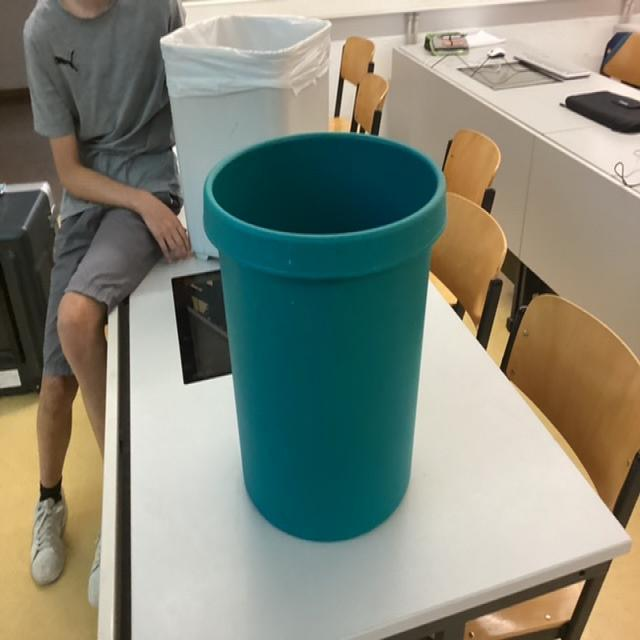garbage container: (196, 92, 474, 572)
